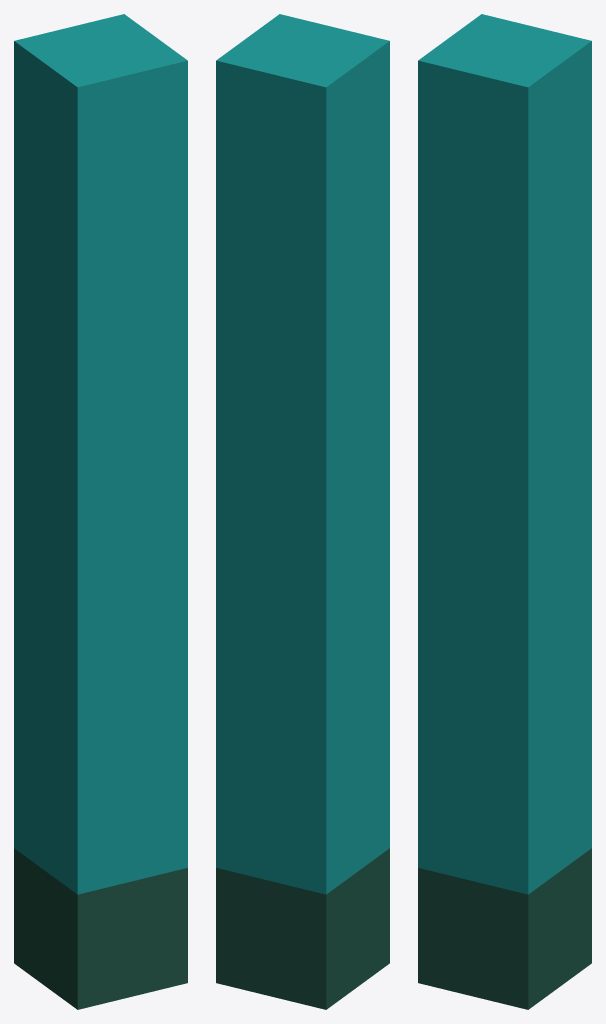
File: Leg.obj
3 views of the same model, side by side, from view 1: azimuth 30°, elevation 25°; view 2: azimuth 150°, elevation 25°; view 3: azimuth 330°, elevation 25° (orthographic).
Parts seen in each view (by area): view 1: material_0_group, material_1_group; view 2: material_0_group, material_1_group; view 3: material_0_group, material_1_group.
Part boxes in pixels (x1,y1,x2,y2): material_0_group: (14,14,187,894); material_1_group: (14,848,187,1009); material_0_group: (216,14,389,894); material_1_group: (216,848,389,1009); material_0_group: (418,14,591,894); material_1_group: (418,848,591,1009).
Size of the model in its own units: 1 by 8 by 1.
